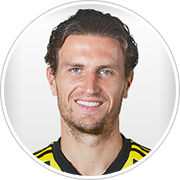face: (44, 41, 136, 129)
